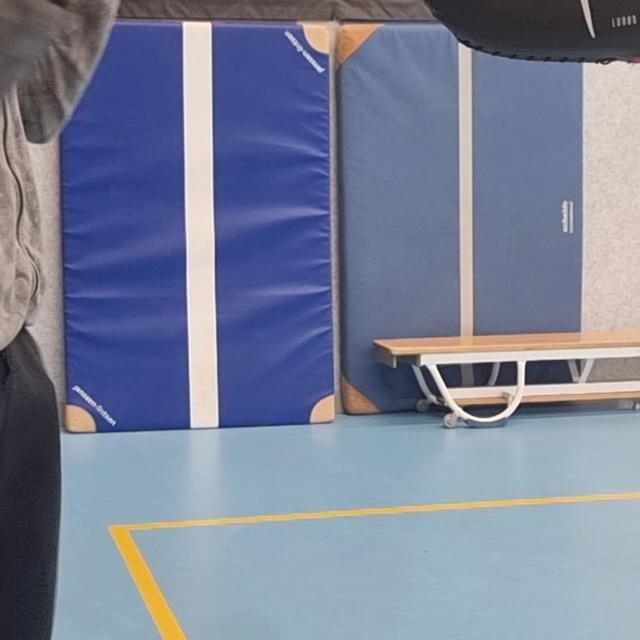paddle: (417, 0, 640, 66)
